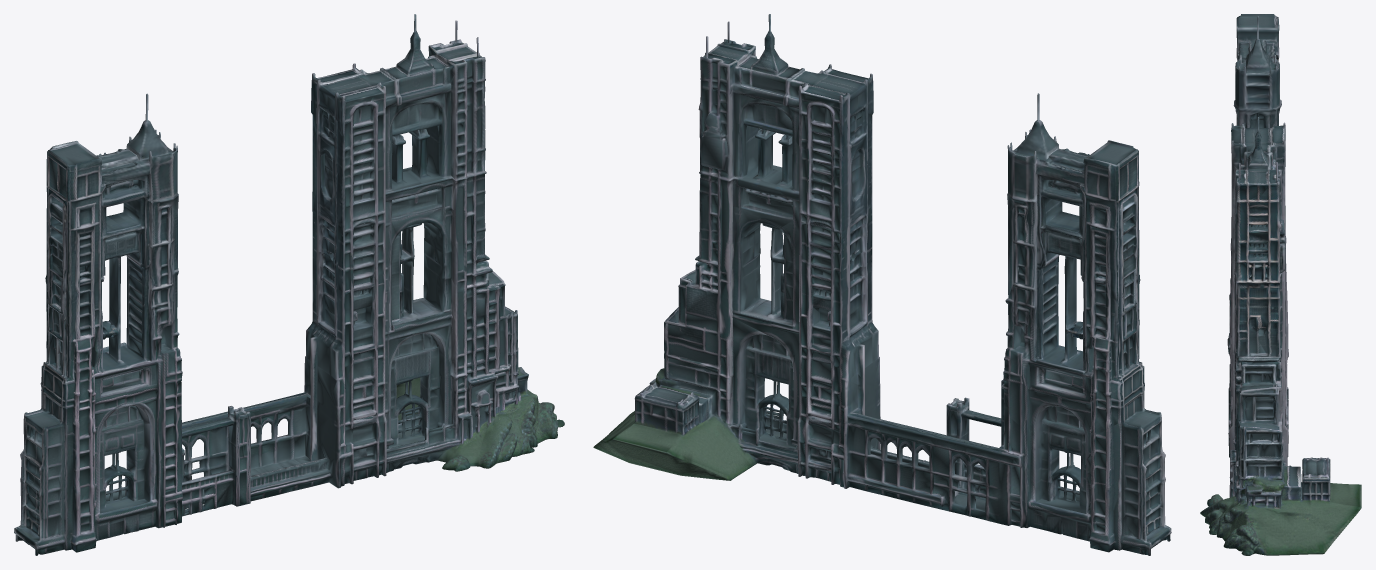
File: ruin-tower.glb
3 views of the same model, side by side, from view 1: azimuth 30°, elevation 25°; view 2: azimuth 150°, elevation 25°; view 3: azimuth 270°, elevation 25° (orthographic). The views are drawn at different scales.
Parts seen in each view (by area): view 1: tripo_node_806fabad-9114-4367-bb4d-b303a4985148; view 2: tripo_node_806fabad-9114-4367-bb4d-b303a4985148; view 3: tripo_node_806fabad-9114-4367-bb4d-b303a4985148.
Part boxes in pixels (x1,y1,x2,y2): tripo_node_806fabad-9114-4367-bb4d-b303a4985148: [14, 14, 564, 555]; tripo_node_806fabad-9114-4367-bb4d-b303a4985148: [593, 14, 1171, 555]; tripo_node_806fabad-9114-4367-bb4d-b303a4985148: [1200, 14, 1361, 555].
Bounding box in the file's own units: 0.9996 × 0.7882 × 0.3043.
Materials: 1 (1 with a texture image).
